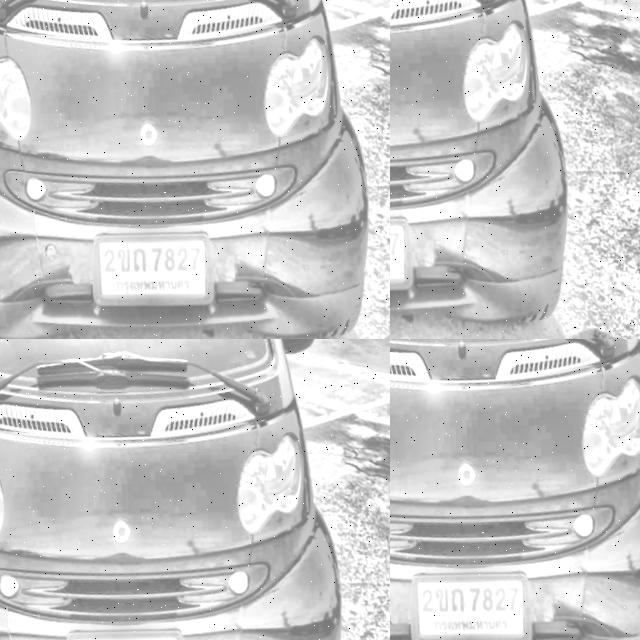license-plate: (410, 546, 548, 640)
